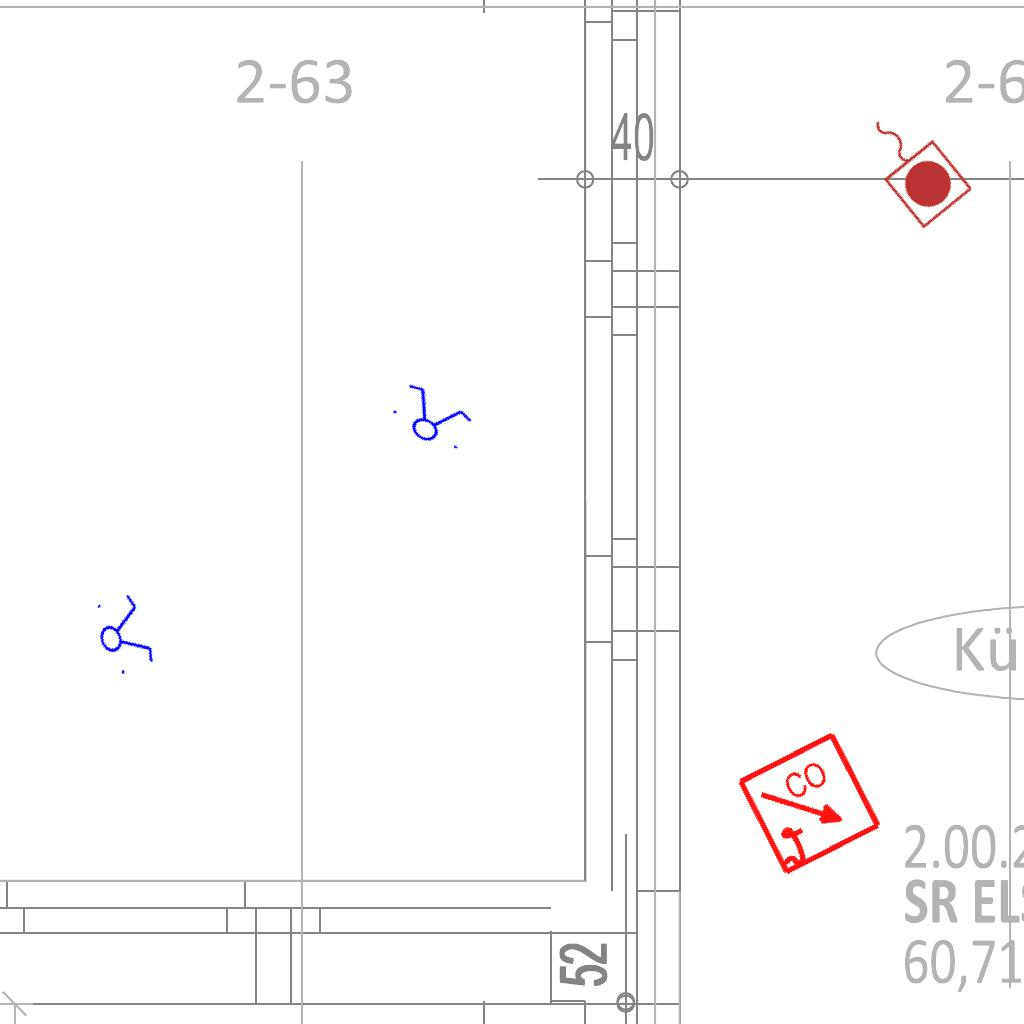ROA_Rauchmelder_optisch_mit_Signalgeber_(Sockelsirene): (734, 728, 887, 881)
Serienschalter: (382, 376, 480, 460), (86, 586, 160, 682)
Zugtaster: (846, 93, 980, 235)
